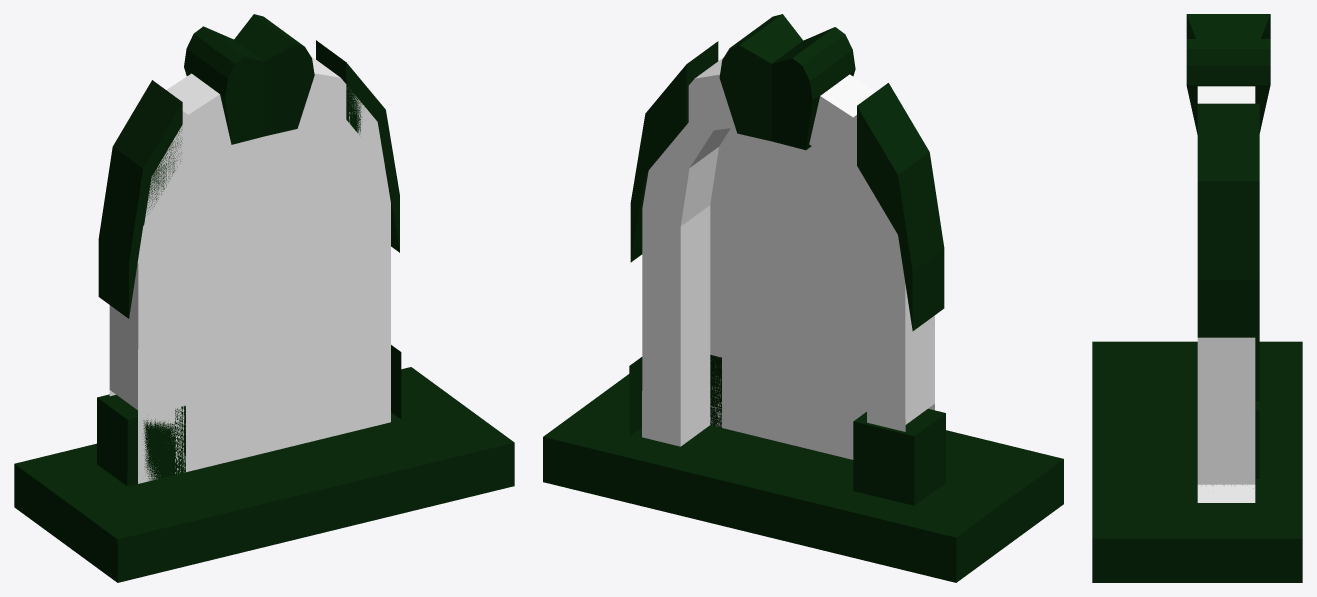
File: portal2.glb
3 views of the same model, side by side, from view 1: azimuth 30°, elevation 25°; view 2: azimuth 150°, elevation 25°; view 3: azimuth 270°, elevation 25° (orthographic). The views are drawn at different scales.
Parts seen in each view (by area): view 1: Plane.001, Plane.002, Plane; view 2: Plane.001, Plane.002, Plane; view 3: Plane.001, Plane.
Part boxes in pixels (bbox=[...]): Plane.001: bbox=[14, 14, 514, 582]; Plane.002: bbox=[175, 111, 353, 473]; Plane: bbox=[109, 56, 390, 483]; Plane.001: bbox=[543, 14, 1063, 582]; Plane.002: bbox=[710, 127, 866, 459]; Plane: bbox=[642, 57, 934, 446]; Plane.001: bbox=[1092, 14, 1302, 582]; Plane: bbox=[1197, 86, 1255, 502].
Size of the model in its own units: 4.43 by 4.81 by 2.
